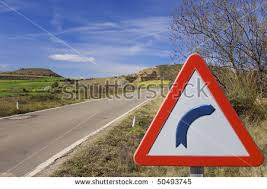Bend_to_right: (129, 51, 265, 169)
